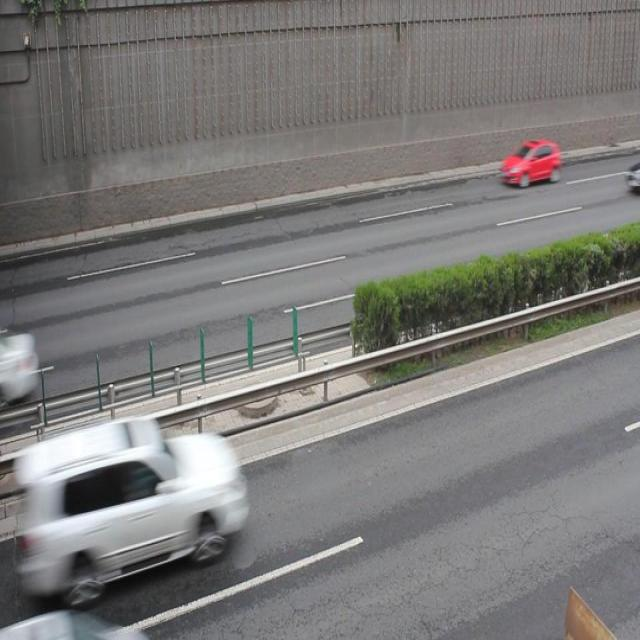car: (48, 416, 242, 593), (498, 136, 559, 186)
